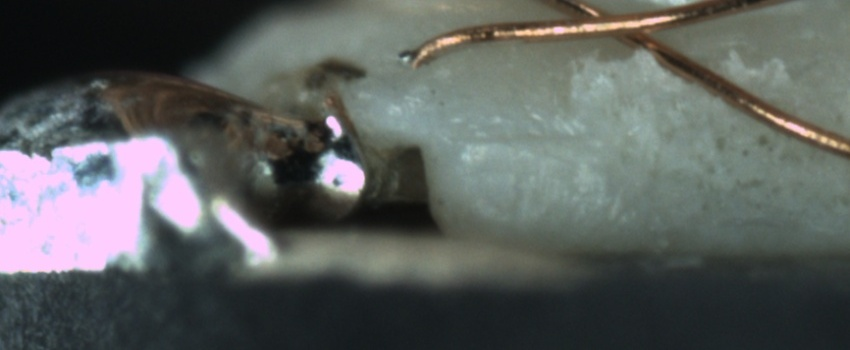CL: (563, 3, 690, 56)
DL: (463, 108, 605, 173)
